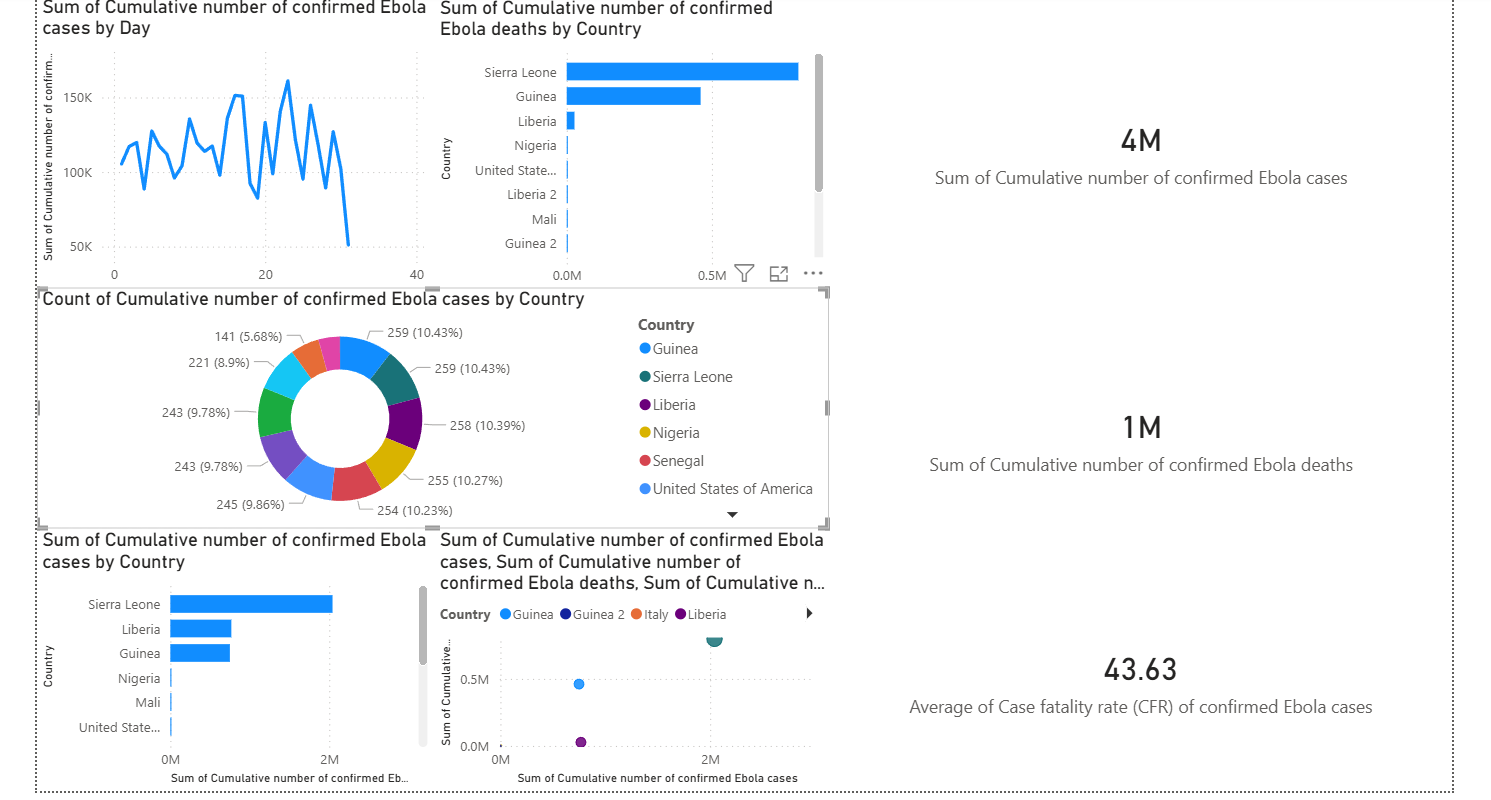

This screenshot's page, from the dashboard's own definition file:
{"tool":"powerbi","page":{"name":"Page 1","canvas":[1280,720],"ordinal":0},"visuals":[{"type":"lineChart","fields":{"Category":["ebola_data_db_format.Date.Variation.Date Hierarchy.Day"],"Y":["Sum(ebola_data_db_format.Cumulative number of confirmed Ebola cases)"]},"box":[0,0,358.4,281],"z":0},{"type":"clusteredBarChart","fields":{"Category":["ebola_data_db_format.Country"],"Y":["Sum(ebola_data_db_format.Cumulative number of confirmed Ebola cases)"]},"box":[0,483.3,358.4,236.4],"z":1000},{"type":"barChart","fields":{"Category":["ebola_data_db_format.Country"],"Y":["Sum(ebola_data_db_format.Cumulative number of confirmed Ebola deaths)"]},"box":[359.9,1.5,356.9,281],"z":2000},{"type":"scatterChart","fields":{"Series":["ebola_data_db_format.Country"],"Y":["Sum(ebola_data_db_format.Cumulative number of confirmed Ebola deaths)"],"Size":["Sum(ebola_data_db_format.Cumulative number of confirmed Ebola cases)"],"X":["Sum(ebola_data_db_format.Cumulative number of confirmed Ebola cases)"]},"box":[359.9,483.3,358.4,236.4],"z":3000},{"type":"card","fields":{"Values":["Sum(ebola_data_db_format.Cumulative number of confirmed Ebola cases)"]},"box":[718.2,0,562.1,281],"z":4000},{"type":"card","fields":{"Values":["Sum(ebola_data_db_format.Cumulative number of confirmed Ebola deaths)"]},"box":[718.2,281,562.1,236.4],"z":5000},{"type":"card","fields":{"Values":["Avg(ebola_data_db_format.Case fatality rate (CFR) of confirmed Ebola cases)"]},"box":[716.7,517.5,563.6,202.2],"z":6000},{"type":"donutChart","fields":{"Category":["ebola_data_db_format.Country"],"Y":["CountNonNull(ebola_data_db_format.Cumulative number of confirmed Ebola cases)"]},"box":[0,264.7,716.7,218.6],"z":7000}]}

Visuals, with their boxes in screenshot pixels (x1, y1, x2, y2):
lineChart - ebola_data_db_format.Date.Variation.Date Hierarchy.Day x Sum(ebola_data_db_format.Cumulative number of confirmed Ebola cases): <bbox>31, 0, 424, 308</bbox>
clusteredBarChart - ebola_data_db_format.Country x Sum(ebola_data_db_format.Cumulative number of confirmed Ebola cases): <bbox>31, 529, 424, 788</bbox>
barChart - ebola_data_db_format.Country x Sum(ebola_data_db_format.Cumulative number of confirmed Ebola deaths): <bbox>425, 2, 816, 309</bbox>
scatterChart - ebola_data_db_format.Country x Sum(ebola_data_db_format.Cumulative number of confirmed Ebola deaths): <bbox>425, 529, 818, 788</bbox>
card - Sum(ebola_data_db_format.Cumulative number of confirmed Ebola cases): <bbox>818, 0, 1434, 308</bbox>
card - Sum(ebola_data_db_format.Cumulative number of confirmed Ebola deaths): <bbox>818, 308, 1434, 567</bbox>
card - Avg(ebola_data_db_format.Case fatality rate (CFR) of confirmed Ebola cases): <bbox>816, 567, 1434, 788</bbox>
donutChart - ebola_data_db_format.Country x CountNonNull(ebola_data_db_format.Cumulative number of confirmed Ebola cases): <bbox>31, 290, 816, 529</bbox>
